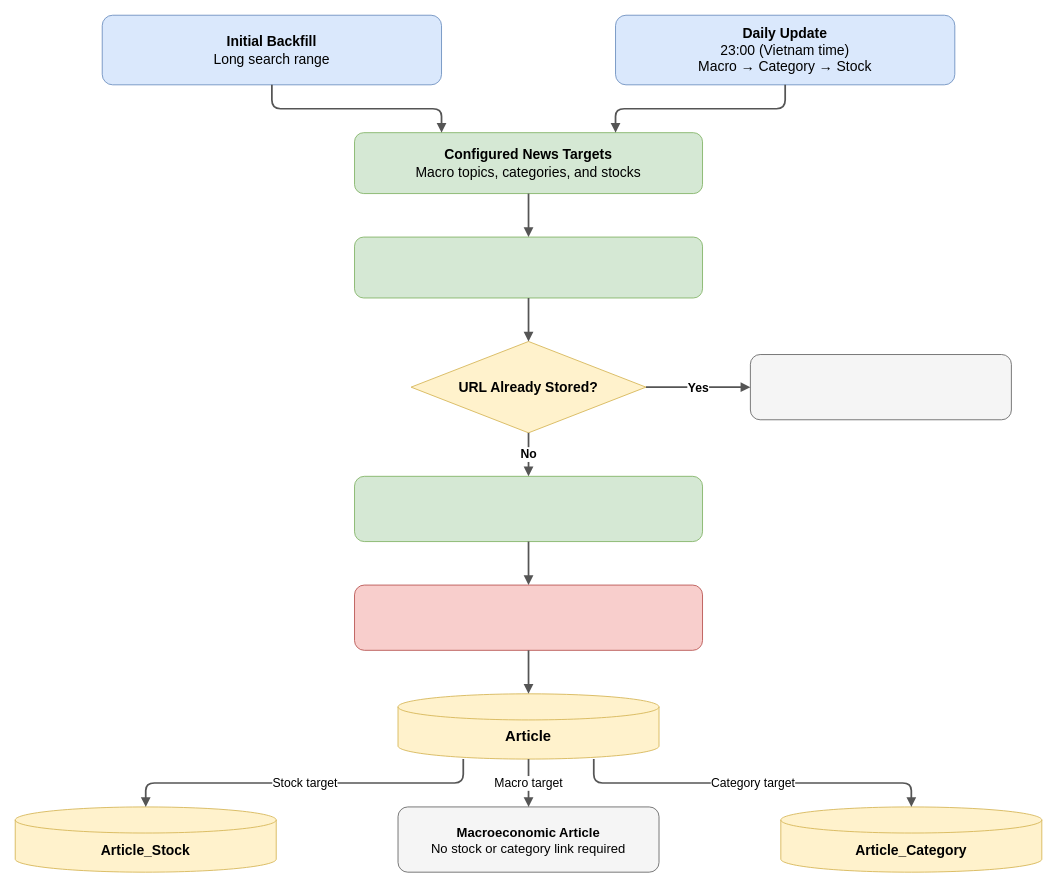
Some shapes in this 1057 by 887 pixel diagram are drawn without their labels. Each missing label, with the box of its shape:
Newspaper3k Extraction Title, content, publication data, and image: (354, 475, 703, 542)
OpenAI Structured Processing Vietnamese summary and sentiment label: (354, 584, 703, 650)
Serper News Search Candidate article URLs: (354, 236, 703, 298)
Skip Duplicate No extraction or model call: (750, 354, 1011, 420)
